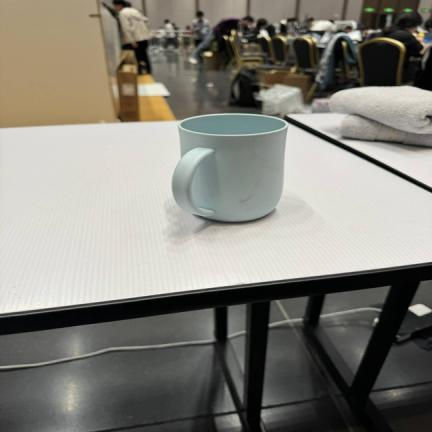cup: (172, 114, 287, 222)
